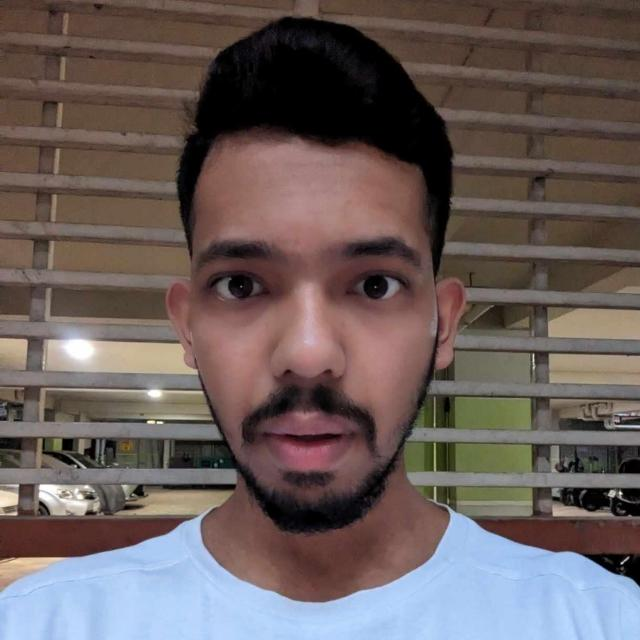Surprised: (94, 62, 508, 521)
